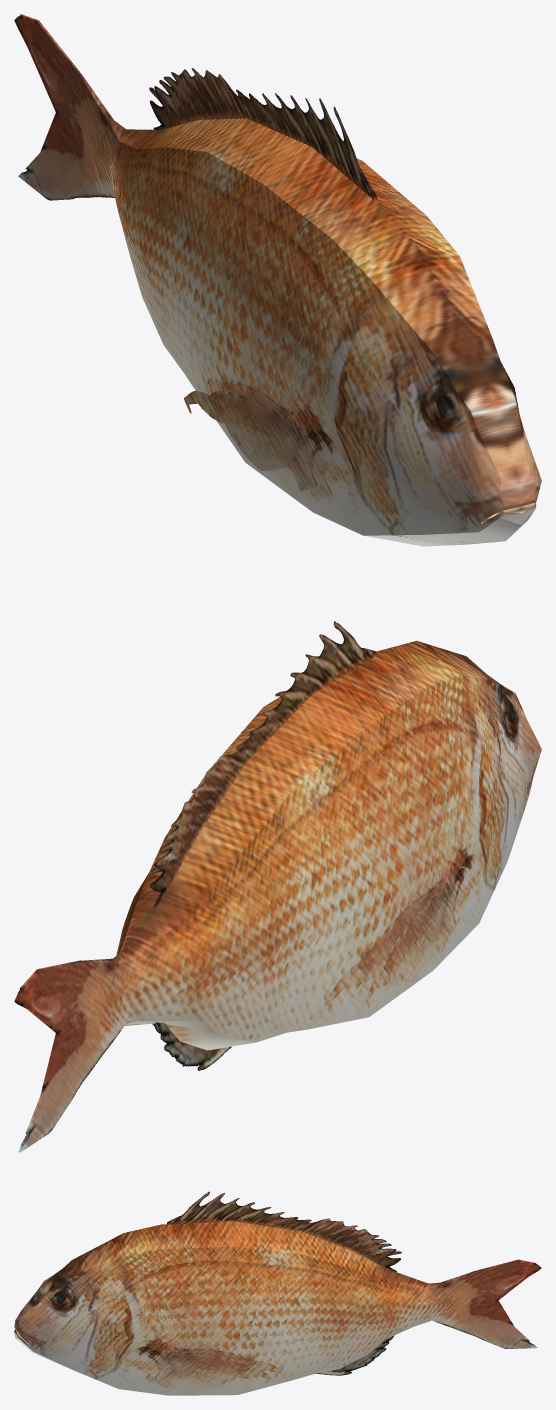
File: MADAI.fbx
The picture shows the model from 3 angles, top to bottom: view 1: azimuth 30°, elevation 25°; view 2: azimuth 150°, elevation 25°; view 3: azimuth 270°, elevation 25°; orthographic projection. The views are drawn at different scales.
Visible parts, largest first — view 1: polySurface3, pPlane6, pPlane5; view 2: polySurface3, pPlane6, pPlane5, pPlane7; view 3: polySurface3, pPlane1, pPlane4, pPlane3.
Boxes of the visible parts, x1,y1,x2,y2 form: polySurface3: [14, 14, 541, 546]; pPlane6: [149, 68, 373, 199]; pPlane5: [184, 390, 330, 491]; polySurface3: [14, 640, 541, 1152]; pPlane6: [150, 621, 376, 907]; pPlane5: [365, 859, 470, 1008]; pPlane7: [155, 1022, 231, 1068]; polySurface3: [14, 1221, 541, 1395]; pPlane1: [167, 1196, 401, 1272]; pPlane4: [140, 1338, 271, 1389]; pPlane3: [316, 1336, 393, 1375].
Bounding box in the file's own units: 1.42 × 2.84 × 6.39.
